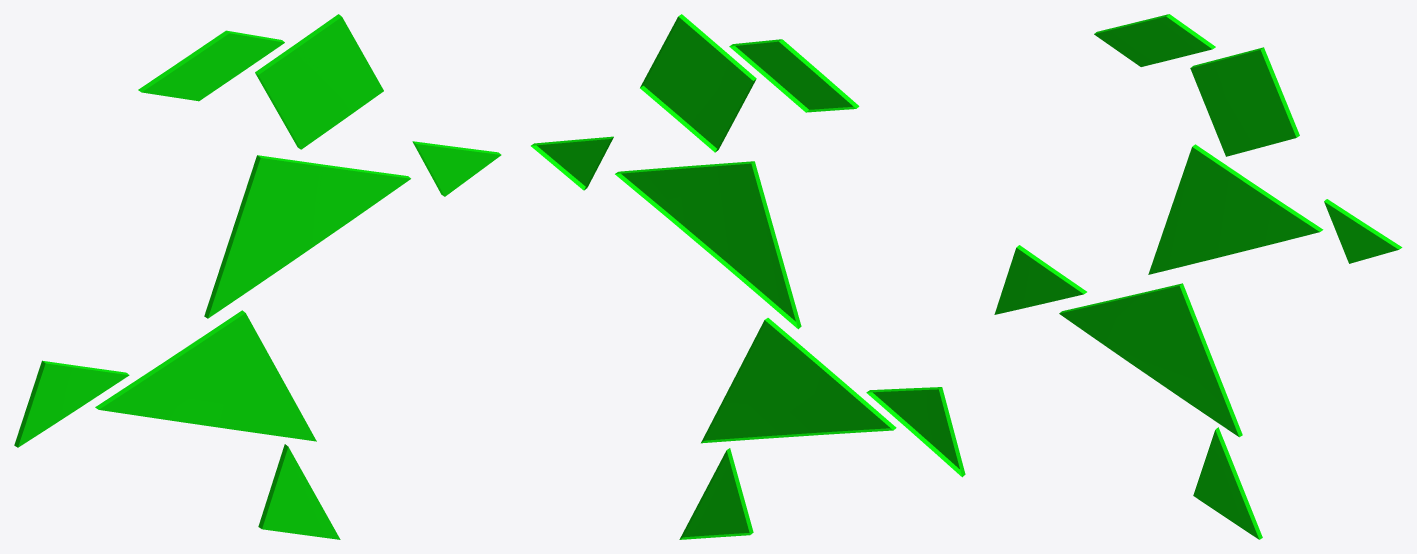
File: link6_vis_1.obj
3 renders of one model, left to right at view 1: azimuth 30°, elevation 25°; view 2: azimuth 150°, elevation 25°; view 3: azimuth 330°, elevation 25°, orthographic. The views are drawn at different scales.
Size of the model in its own units: 0.0225 by 0.0248 by 0.00253.
